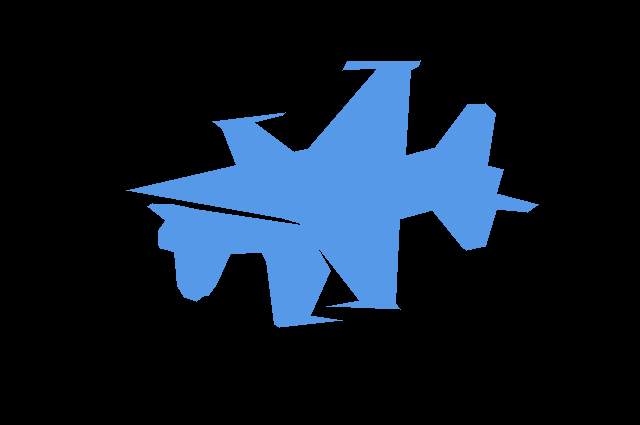Airplane: (126, 60, 538, 309), (147, 112, 342, 328)
